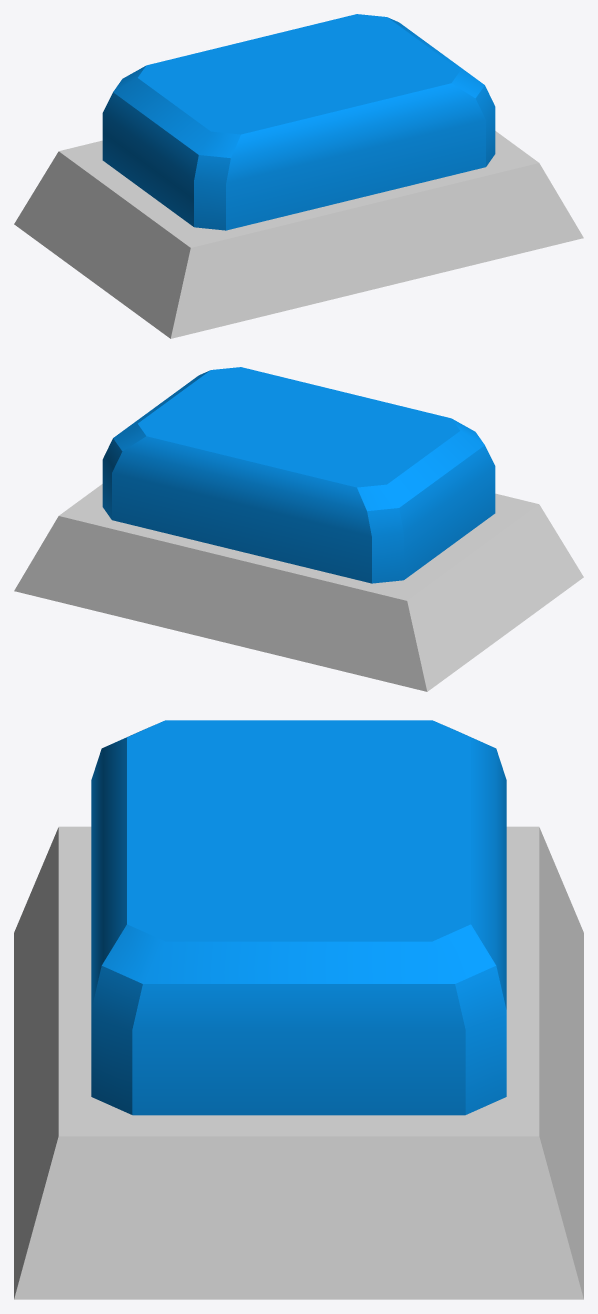
The model's file is LED_2_Blue.fbx.
3 views of the same model, one above another, from view 1: azimuth 30°, elevation 25°; view 2: azimuth 150°, elevation 25°; view 3: azimuth 270°, elevation 25° (orthographic). The views are drawn at different scales.
Visible parts, largest first — view 1: LED_2_Blue; view 2: LED_2_Blue; view 3: LED_2_Blue.
Part boxes in pixels (x1,y1,x2,y2): LED_2_Blue: (14, 14, 583, 338); LED_2_Blue: (14, 367, 583, 691); LED_2_Blue: (14, 720, 583, 1299).
Size of the model in its own units: 33.04 by 11.99 by 21.7.
